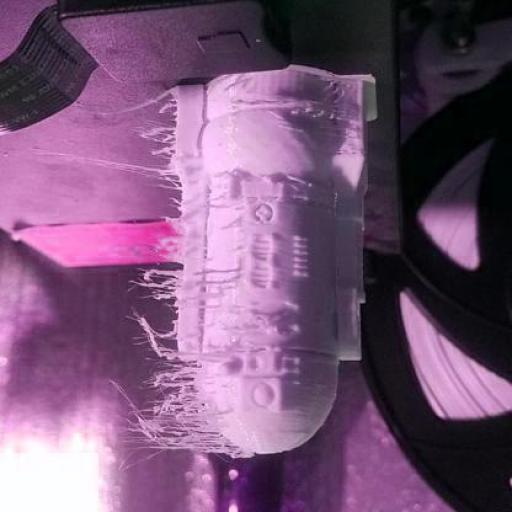spaghetti: (113, 86, 251, 470), (275, 76, 365, 160)
